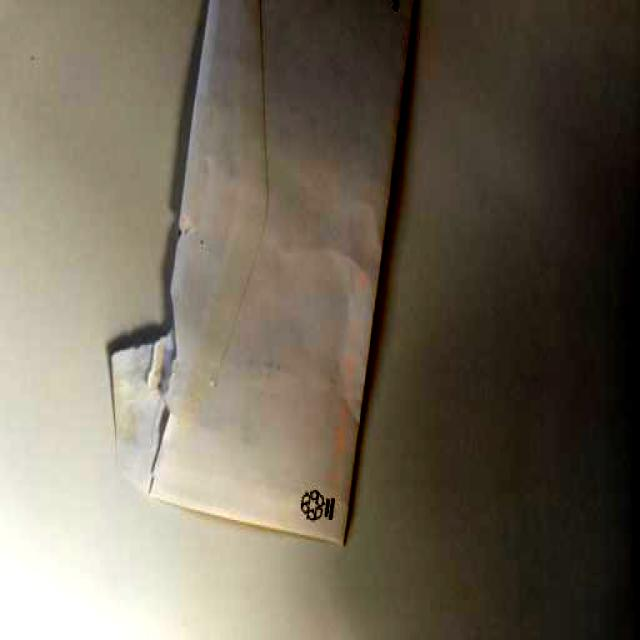Paper: (118, 0, 427, 560)
